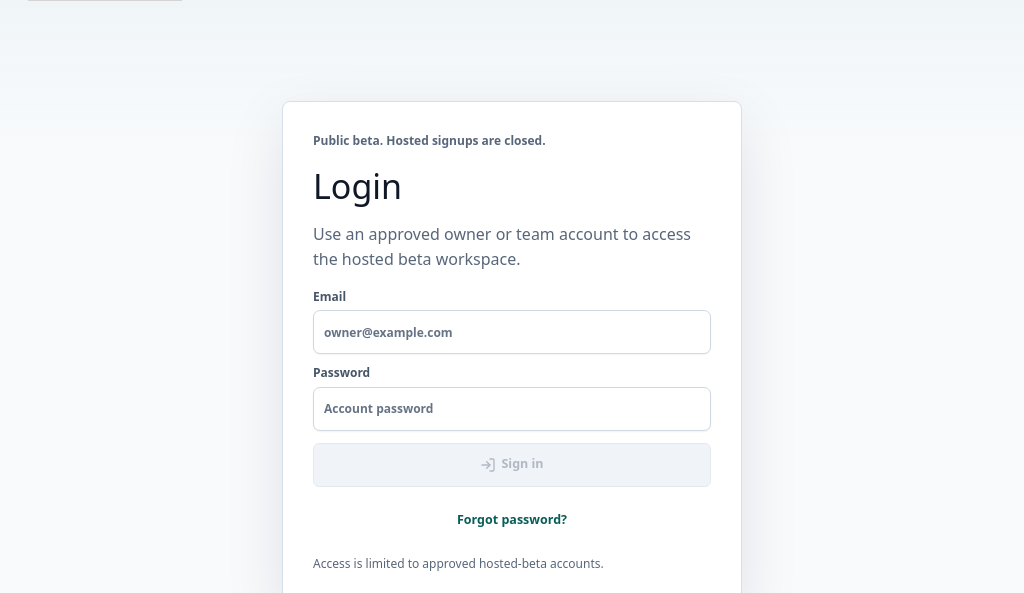
it: failed login shows auth-specific safe copy
Type "reader@example.com" into the field labelled "Email" at (512, 332), box [313,310,711,354]
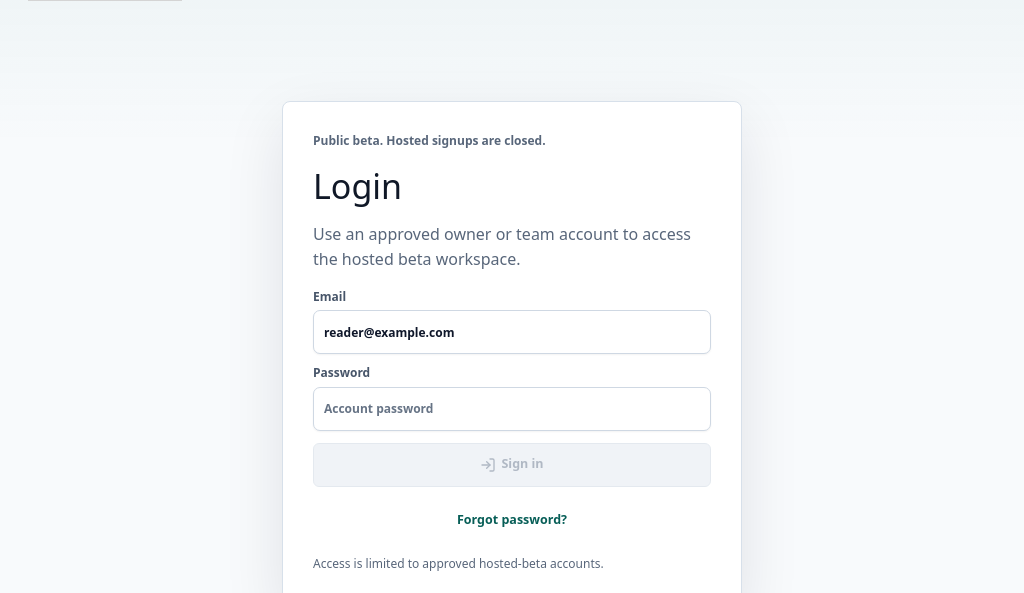
Type "wrong-password" into the password field labelled "Password" at (512, 409), box [313,387,711,431]
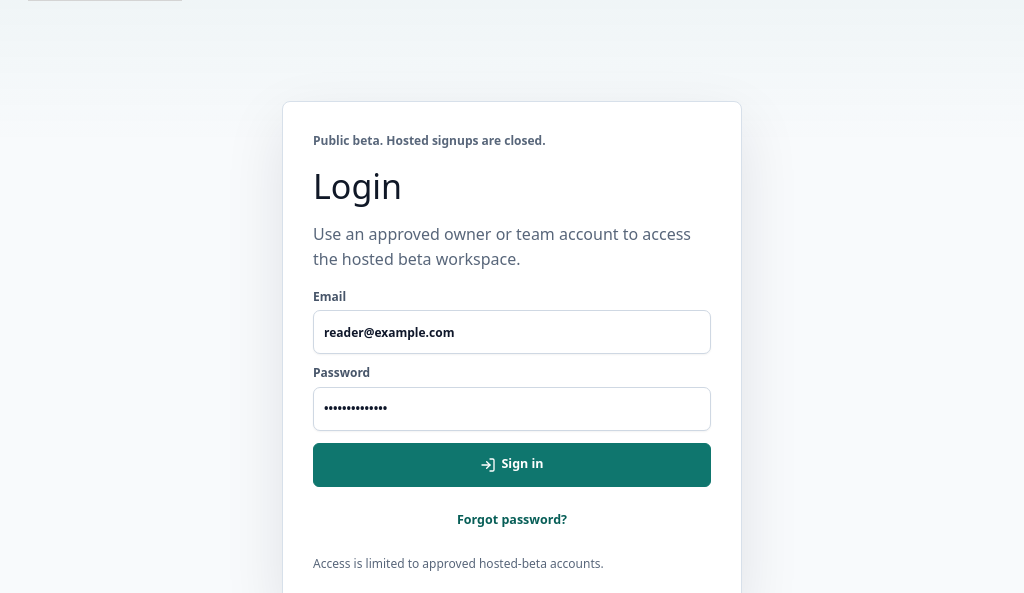
Click the button "Sign in" at (512, 465), box [313,443,711,487]
(page scrolled)
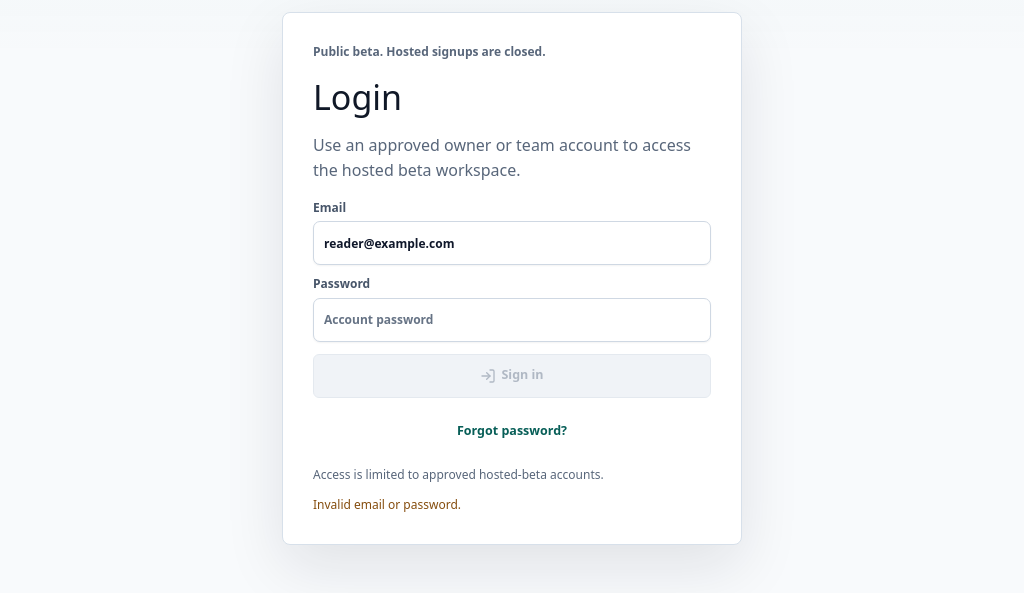
Now the text "Invalid email or password." is shown, box [313,496,461,513]
